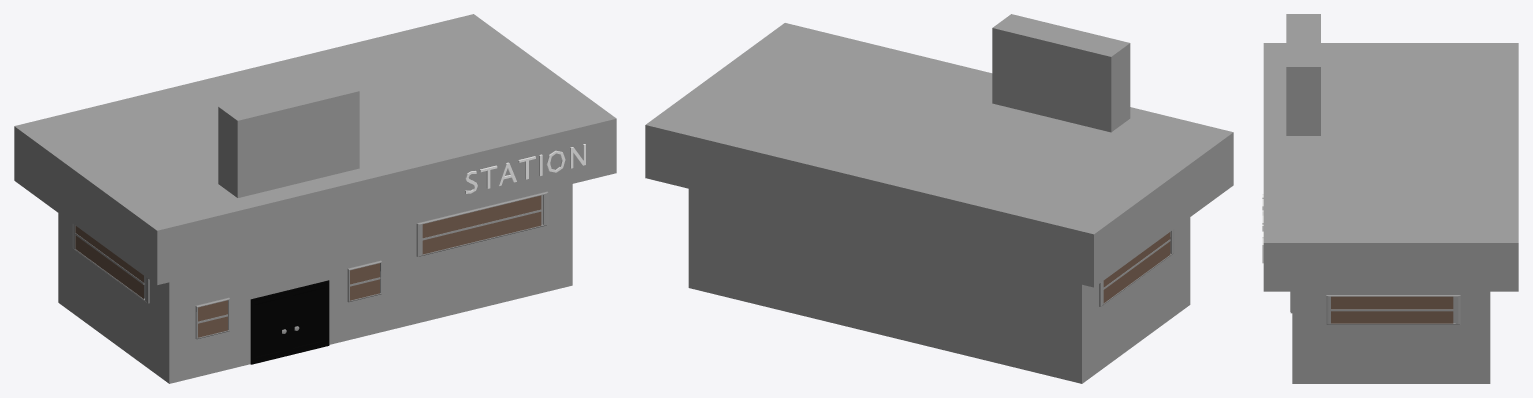
File: TrainStation.fbx
The picture shows the model from 3 angles, left to right: view 1: azimuth 30°, elevation 25°; view 2: azimuth 150°, elevation 25°; view 3: azimuth 270°, elevation 25°; orthographic projection. The views are drawn at different scales.
Parts seen in each view (by area): view 1: pCube349, pCube348, pCube350, pSphere40, polySurface752, polySurface754, polySurface751, polySurface750, typeMesh3; view 2: pCube349, pCube348, pCube350, polySurface754; view 3: pCube349, pCube348, pCube350, polySurface753.
Part boxes in pixels (<box>): pCube349: <box>14,14,616,285</box>; pCube348: <box>58,184,572,383</box>; pCube350: <box>218,77,359,197</box>; pSphere40: <box>250,280,329,364</box>; polySurface752: <box>416,191,548,256</box>; polySurface754: <box>72,224,149,303</box>; polySurface751: <box>347,260,381,302</box>; polySurface750: <box>195,297,229,339</box>; typeMesh3: <box>465,144,585,193</box>; pCube349: <box>645,23,1233,287</box>; pCube348: <box>688,189,1190,383</box>; pCube350: <box>992,14,1130,132</box>; polySurface754: <box>1099,229,1174,306</box>; pCube349: <box>1263,43,1518,291</box>; pCube348: <box>1292,291,1490,383</box>; pCube350: <box>1286,14,1320,135</box>; polySurface753: <box>1326,295,1460,324</box>.
Bounding box in the file's own units: 369 × 192 × 200.
